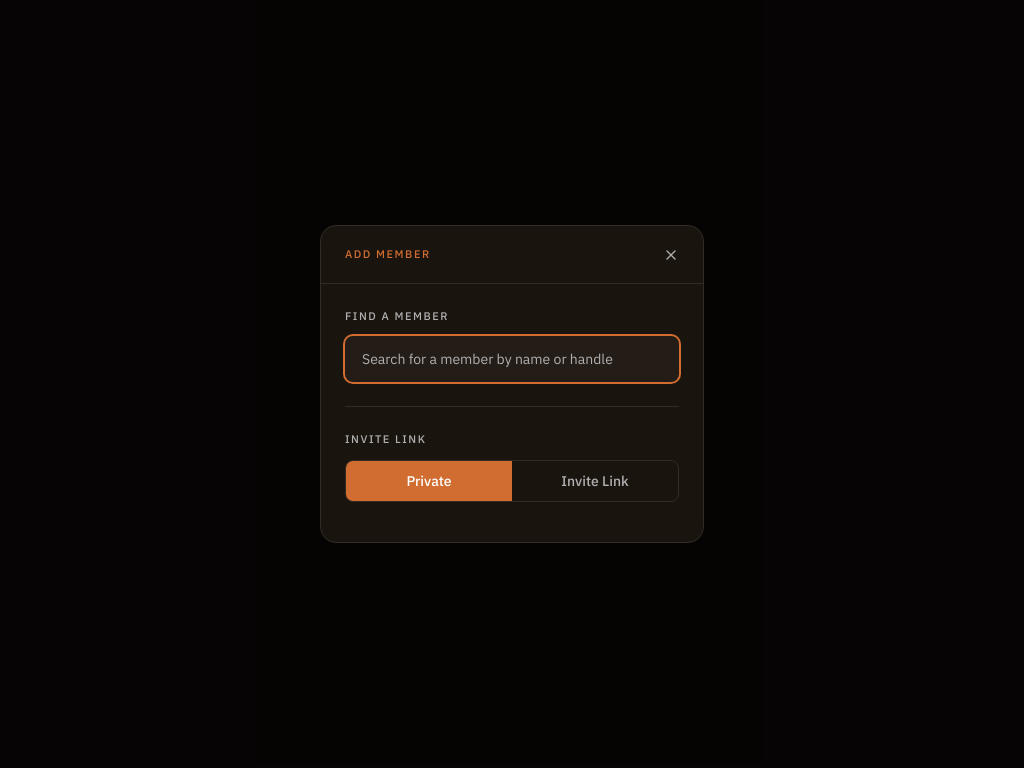
Test: AddMemberModal › Policy toggle › shows invite URL after enabling Invite Link
The image size is (1024, 768).
Click the button "Invite Link" at (595, 481), box [512,461,678,501]
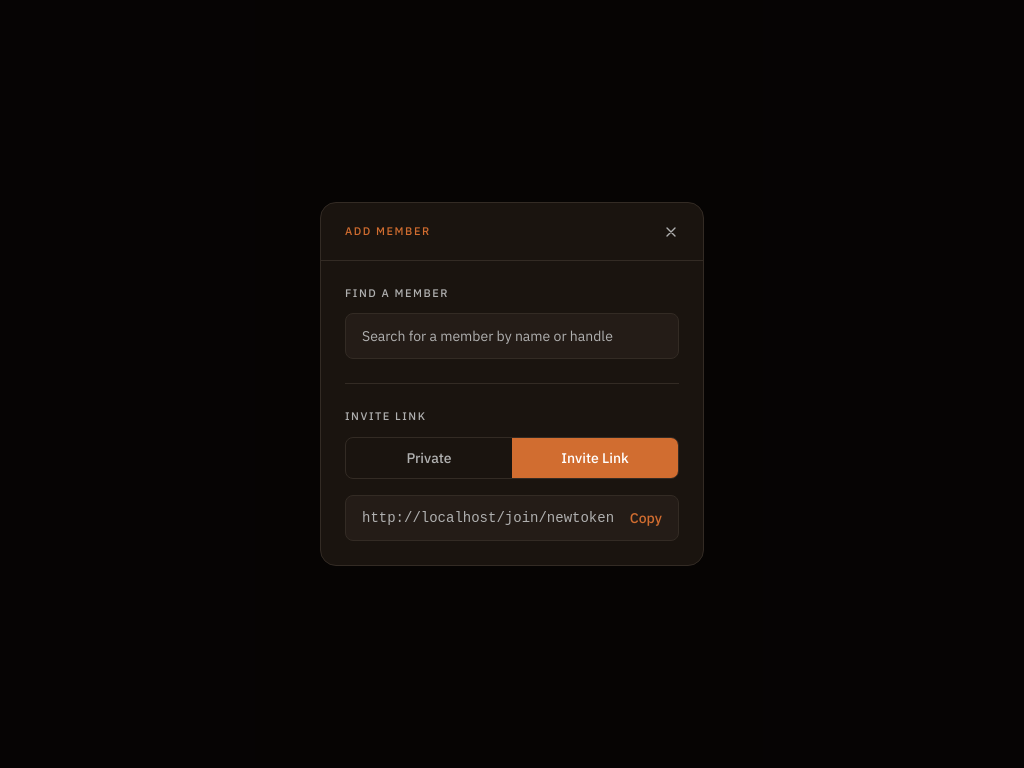
Check: the text "newtoken" is shown, box [362,510,614,526]
